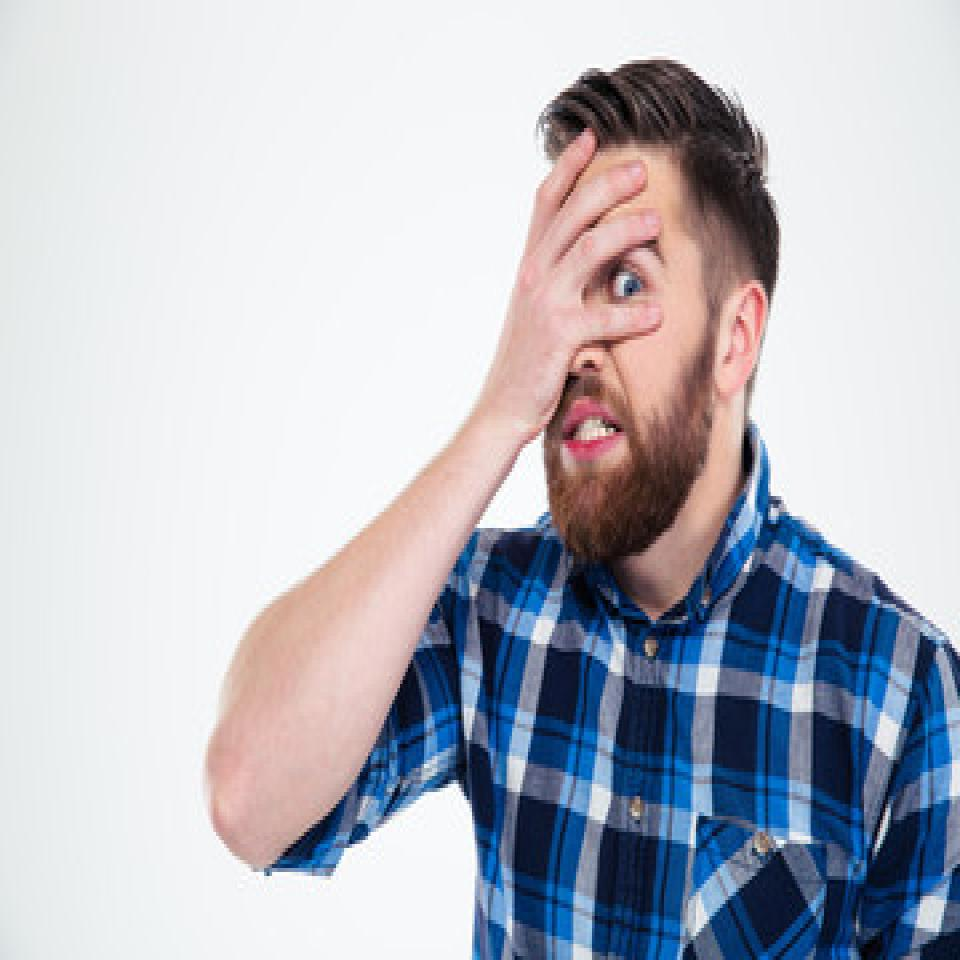Scared: (496, 136, 776, 552)
